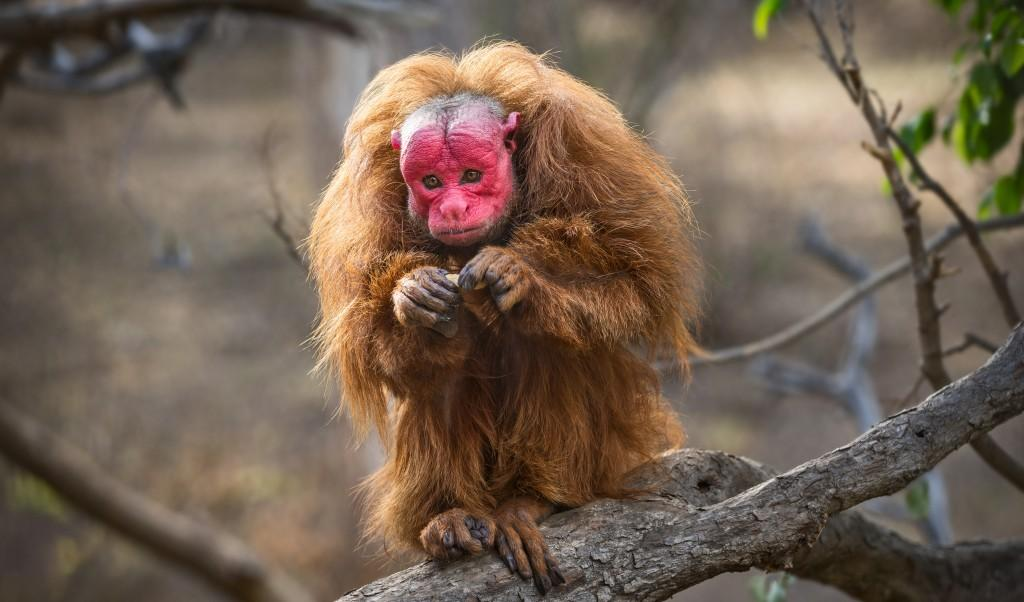monkey: (305, 45, 701, 580)
